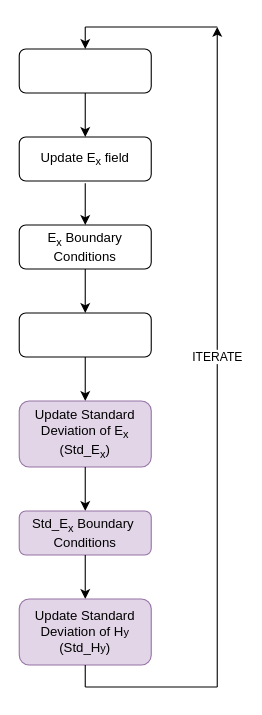
Some shapes in this 262 by 715 pixel diagram are drawn without their labels. Here are the shapes that lost their labels. From the top down, the box of each, then its label:
(18, 48, 151, 93): Update E x Source
(18, 312, 151, 357): Update H y field
